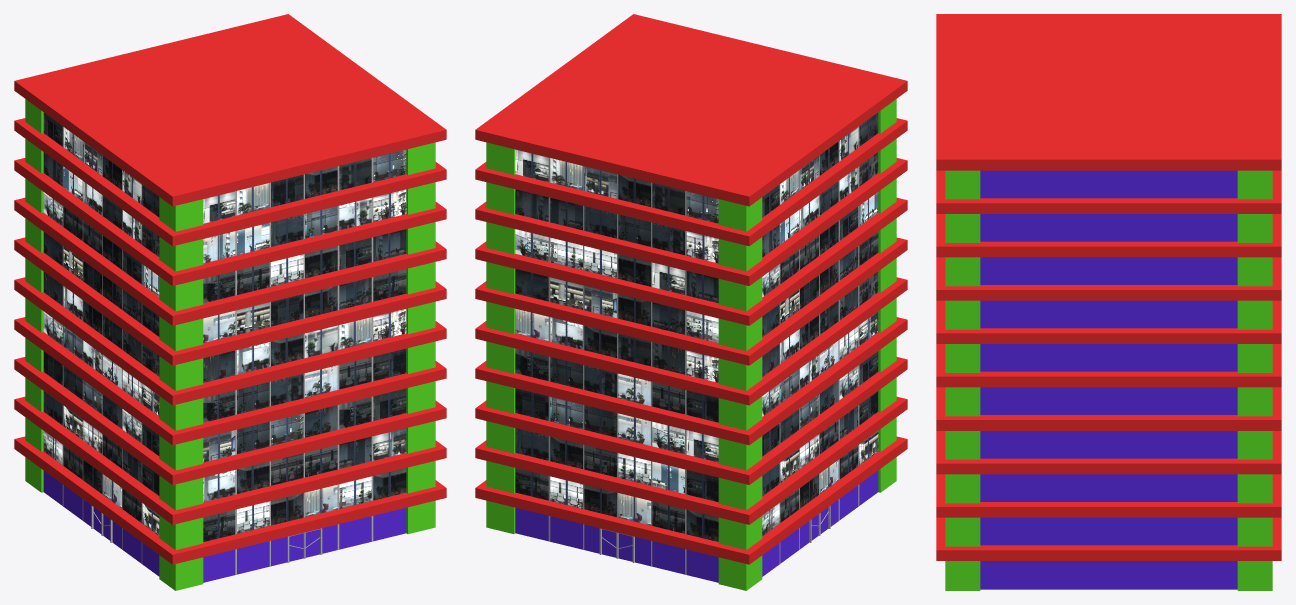
3 views of the same model, side by side, from view 1: azimuth 30°, elevation 25°; view 2: azimuth 150°, elevation 25°; view 3: azimuth 270°, elevation 25° (orthographic). The views are drawn at different scales.
Parts seen in each view (by area): view 1: Building_02; view 2: Building_02; view 3: Building_02.
Part boxes in pixels (x1,y1,x2,y2): Building_02: (14,14,446,590); Building_02: (475,14,907,590); Building_02: (936,14,1281,590).
Size of the model in its own units: 2432 by 3383 by 2432.
